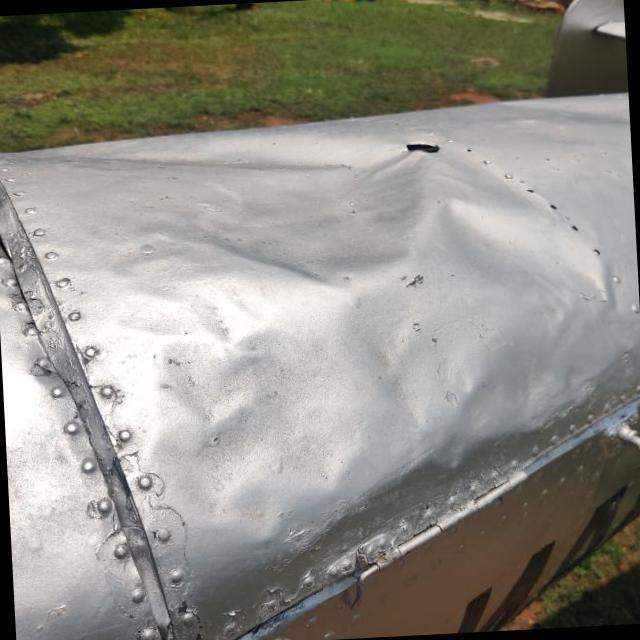Dent: (137, 286, 368, 547), (143, 146, 458, 324), (419, 165, 636, 334)
